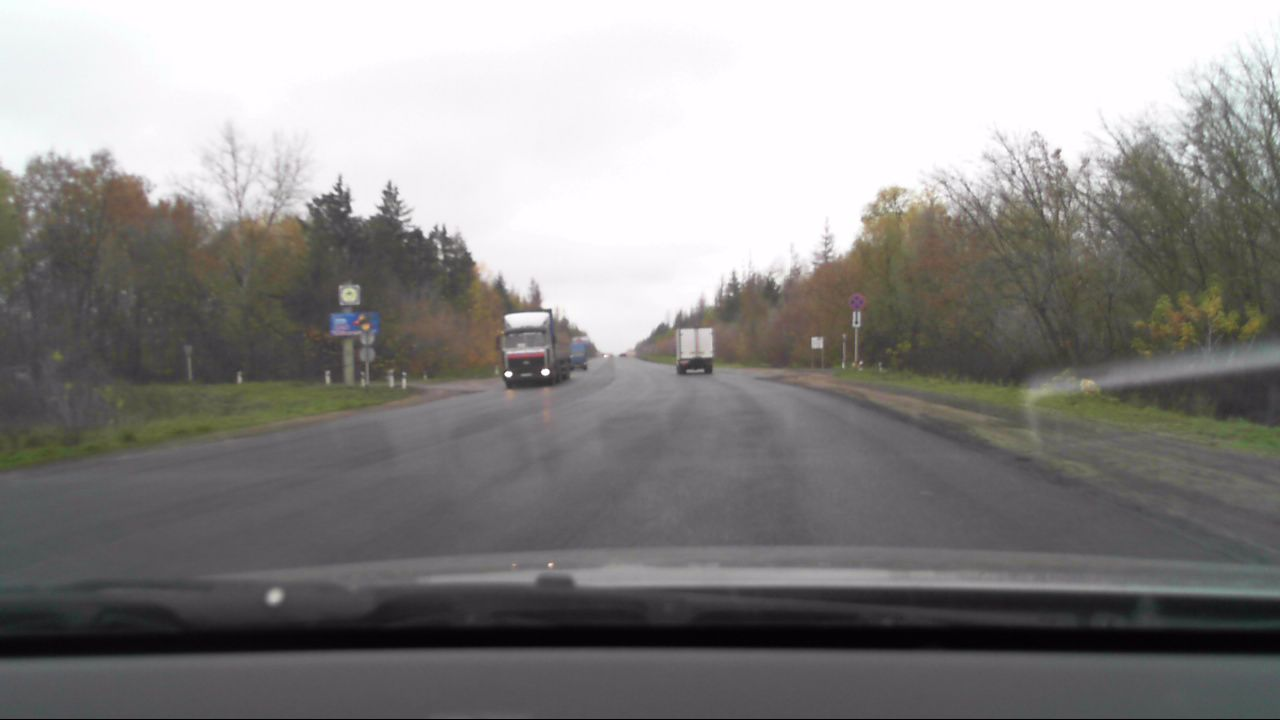No Parking: (847, 293, 865, 311)
